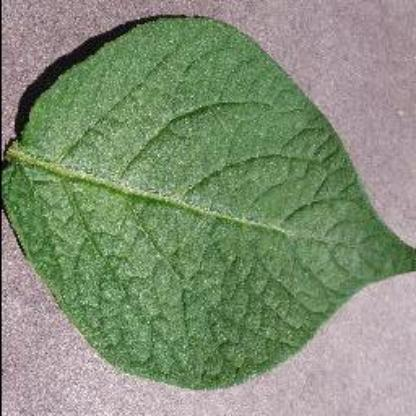Healthy-plant: (0, 14, 416, 393)
